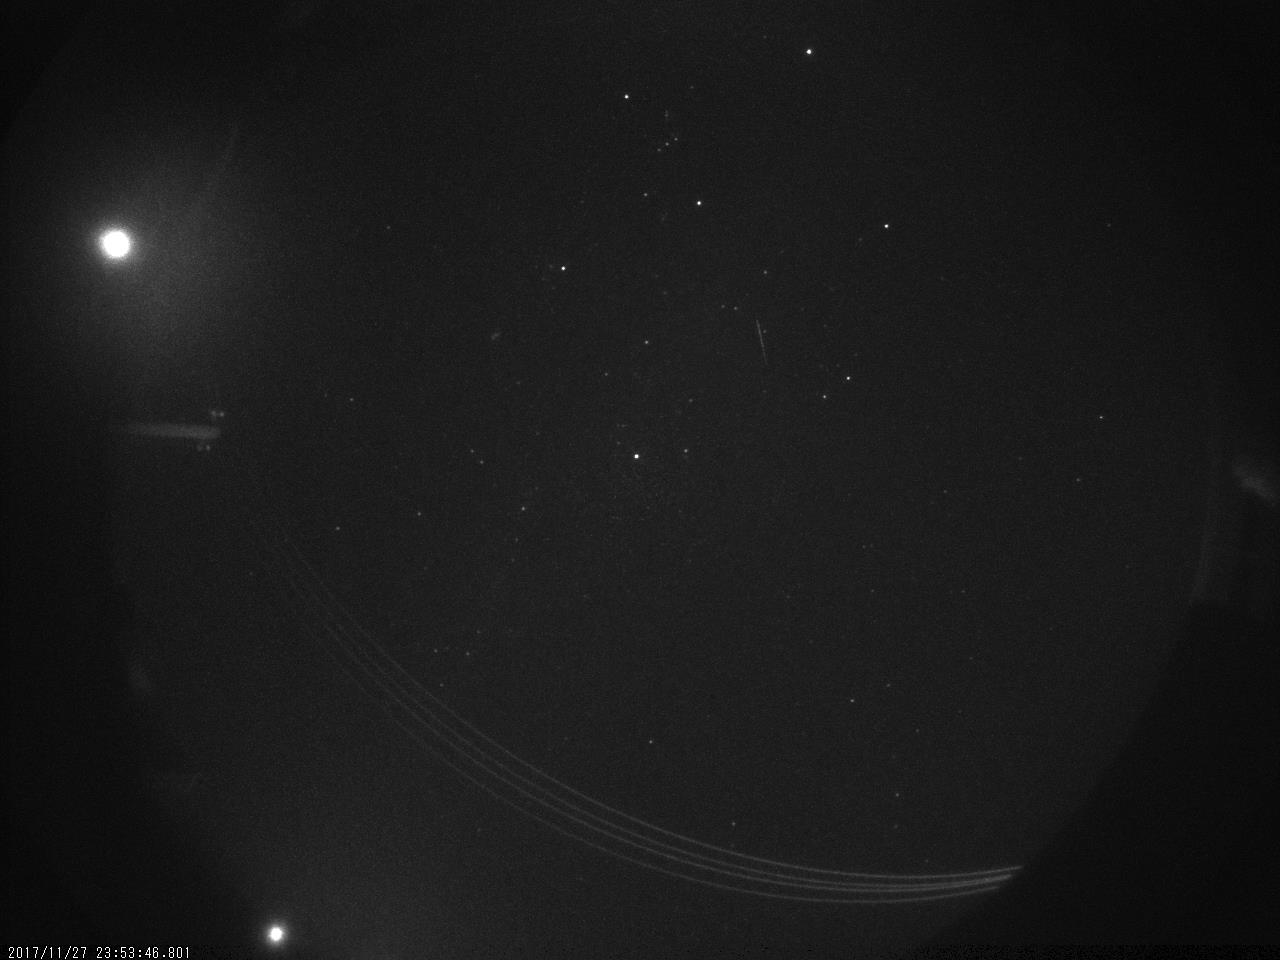meteor: (744, 315, 775, 367)
